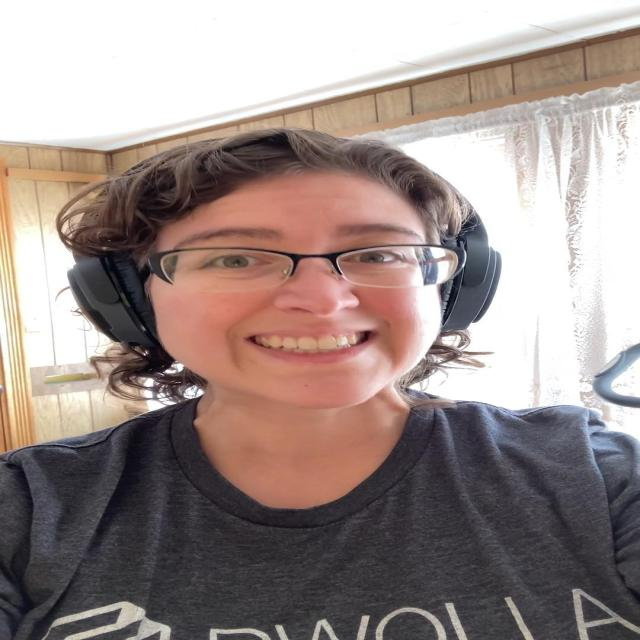no-helmet: (133, 165, 450, 412)
